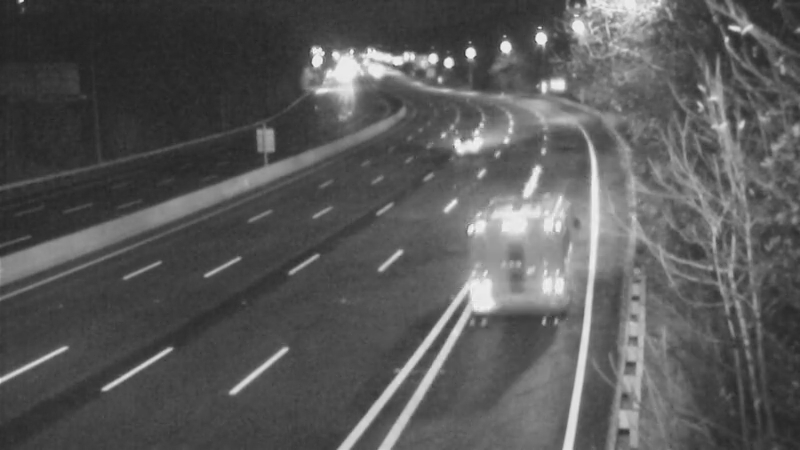vehicle: (471, 213, 551, 293), (440, 123, 490, 173)
